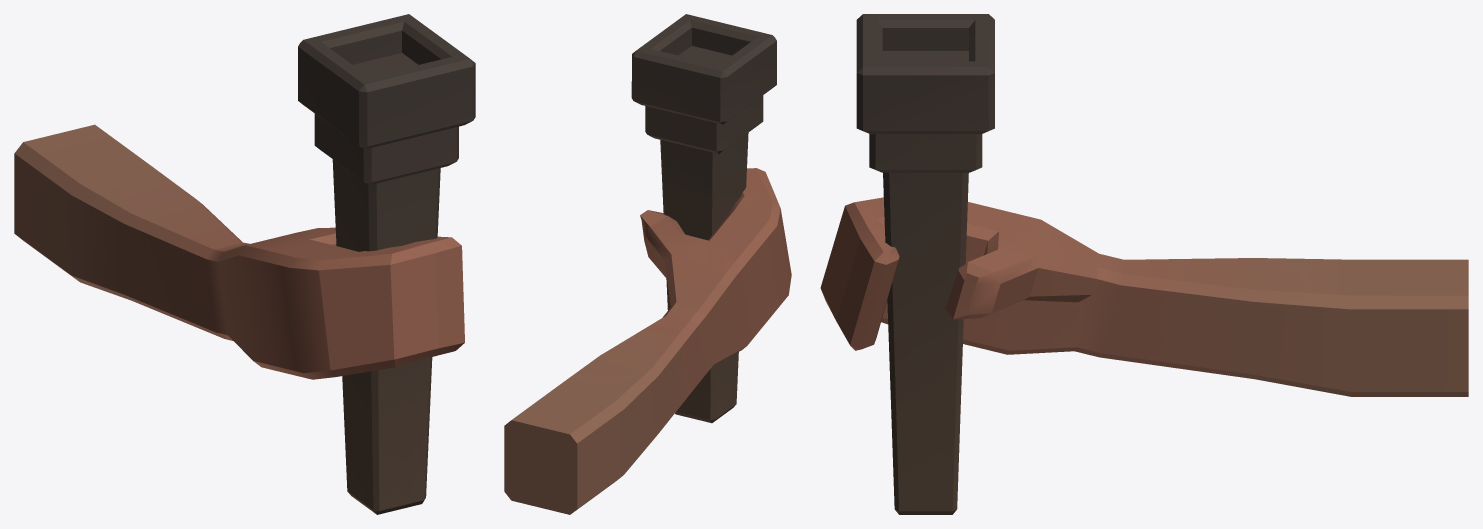
File: player_hand.fbx
3 renders of one model, left to right at view 1: azimuth 30°, elevation 25°; view 2: azimuth 150°, elevation 25°; view 3: azimuth 270°, elevation 25°, orthographic. The views are drawn at different scales.
Visible parts, largest first — view 1: hand1, torch1; view 2: hand1, torch1; view 3: hand1, torch1.
Boxes of the visible parts, x1,y1,x2,y2 form: hand1: (14,124,464,379); torch1: (298,14,475,514); hand1: (504,168,791,514); torch1: (631,14,776,423); hand1: (820,197,1468,396); torch1: (856,14,994,514).
Bounding box in the file's own units: 20139 × 52089 × 66050.
Materials: 1 (1 with a texture image).
